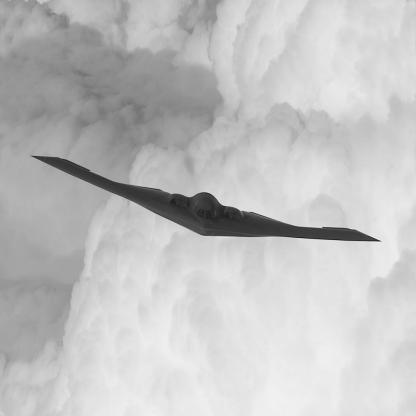B2: (31, 156, 382, 243)
